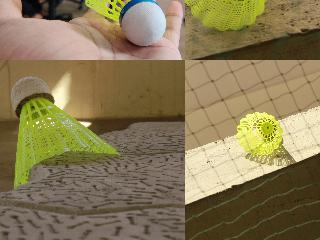shuttlecock: (10, 76, 118, 186), (77, 0, 166, 48), (185, 0, 267, 31), (236, 112, 282, 156)
